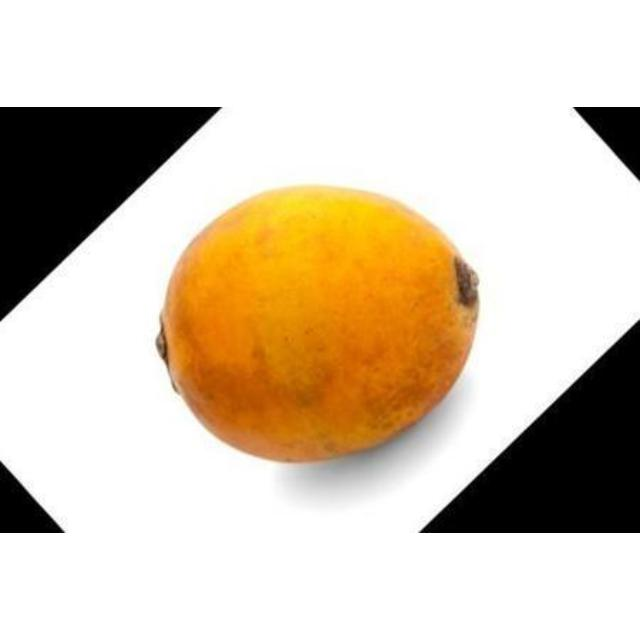good: (159, 184, 482, 465)
